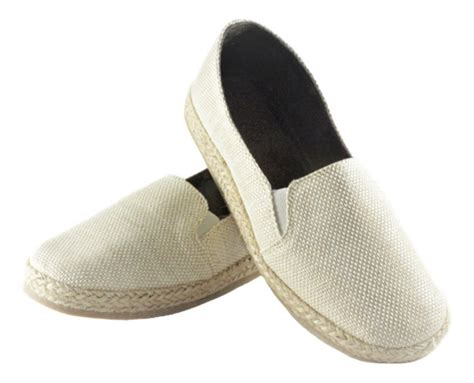nylon: (30, 19, 447, 348)
